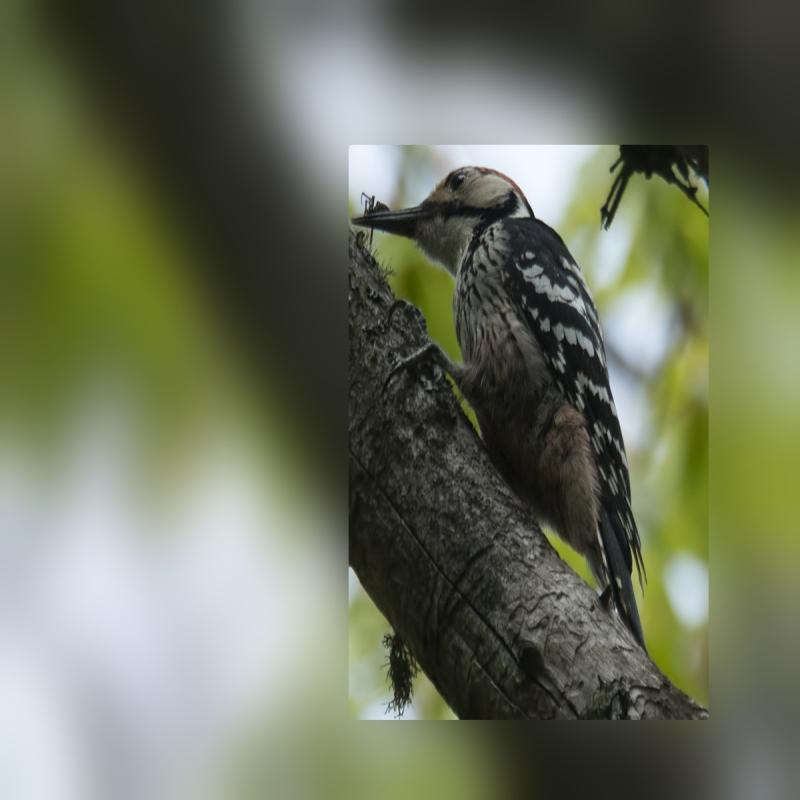white-backed woodpecker: (350, 161, 654, 614)
